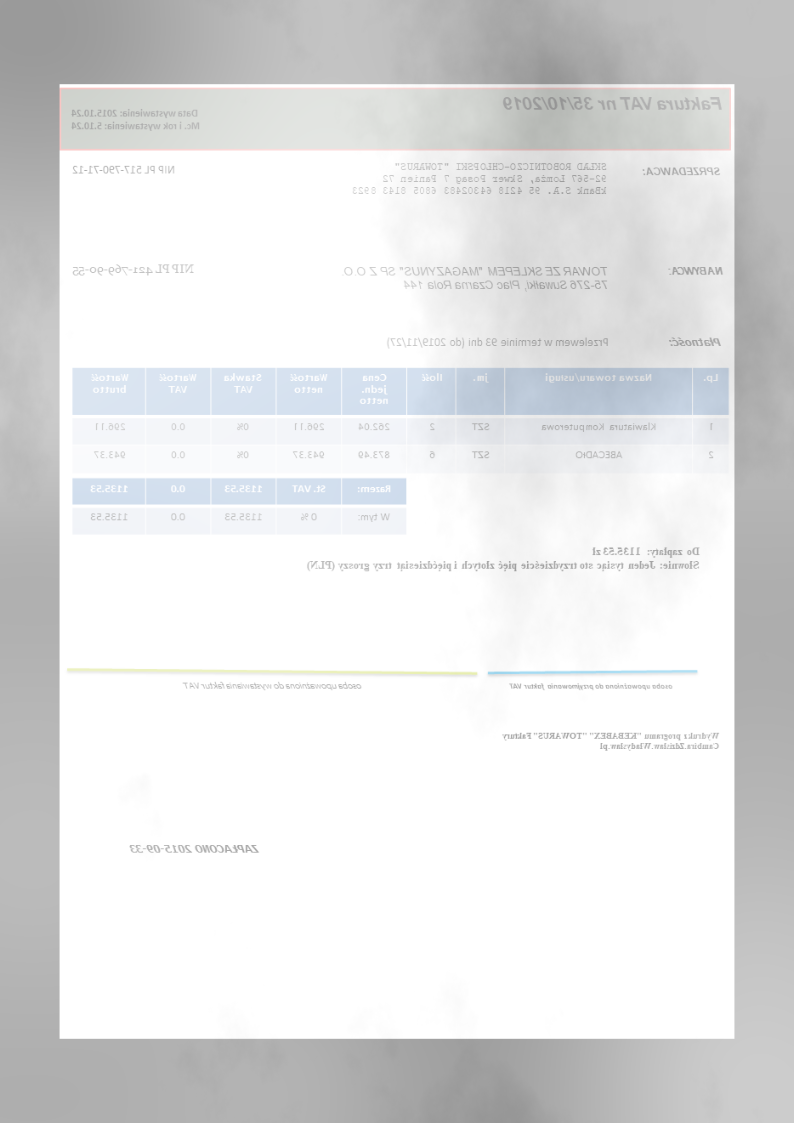Table: (71, 366, 730, 474), (71, 476, 408, 536)
TextBox: (304, 543, 703, 574), (351, 160, 610, 196), (337, 264, 610, 292), (499, 729, 723, 752), (501, 94, 724, 113), (69, 107, 202, 132), (387, 335, 610, 349), (179, 679, 364, 691), (71, 261, 196, 278), (128, 841, 261, 855), (508, 681, 675, 691), (71, 162, 178, 177), (641, 164, 723, 179), (668, 264, 725, 278), (667, 335, 723, 349)
